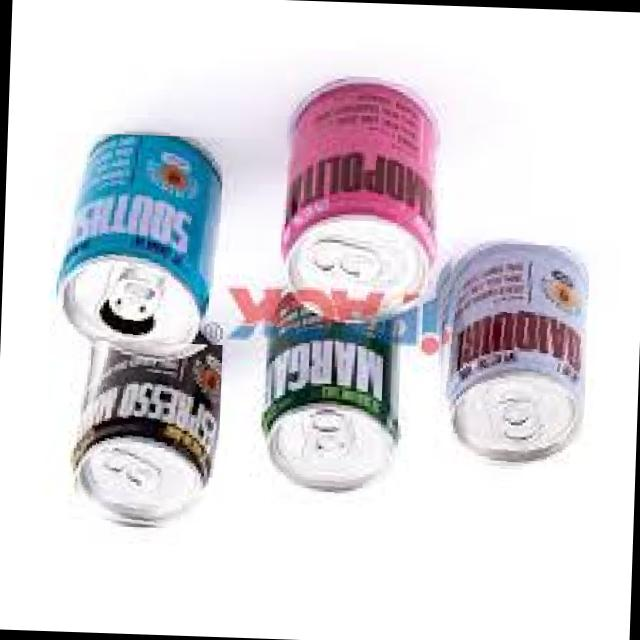Cans: (269, 78, 446, 332), (52, 130, 222, 375), (427, 240, 589, 473), (247, 288, 408, 501), (70, 338, 221, 532)
